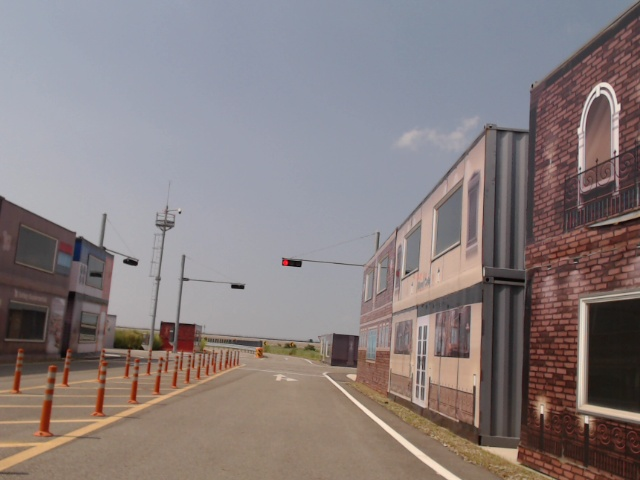red_3: (282, 259, 301, 268)
